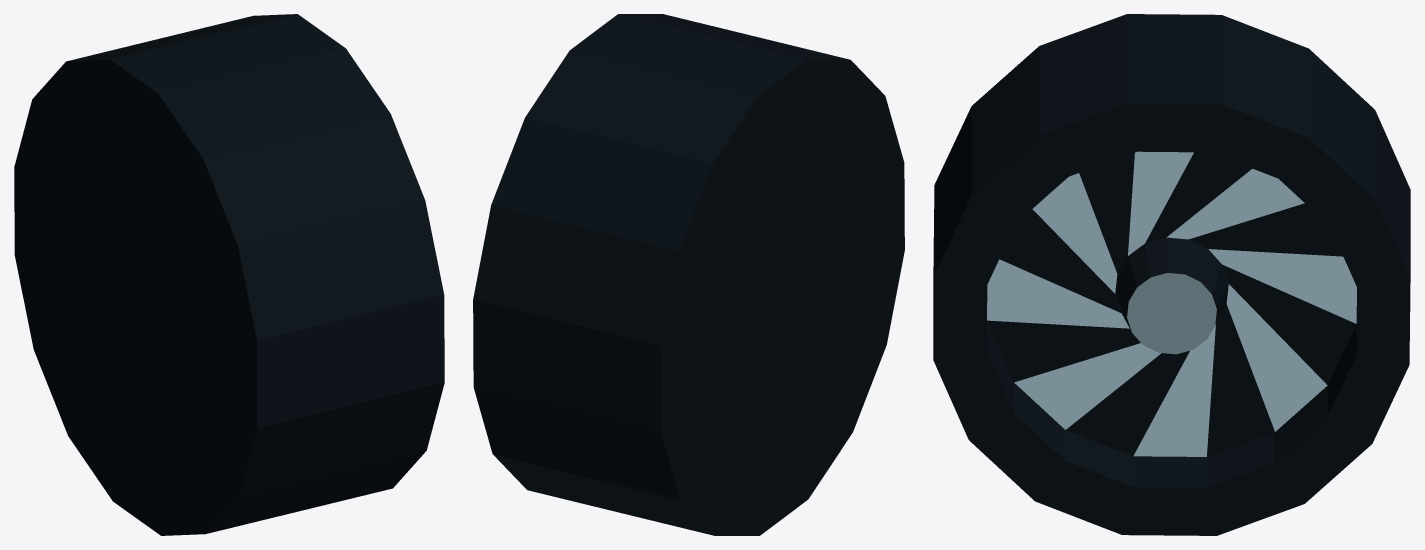
The model's file is FantaCar6600.export..WHEELblend.glb.
The picture shows the model from 3 angles, left to right: view 1: azimuth 30°, elevation 25°; view 2: azimuth 150°, elevation 25°; view 3: azimuth 270°, elevation 25°; orthographic projection. The views are drawn at different scales.
Parts seen in each view (by area): view 1: Car; view 2: Car; view 3: Car.
Part boxes in pixels (bbox=[...]): Car: bbox=[14, 14, 444, 535]; Car: bbox=[473, 14, 904, 535]; Car: bbox=[933, 14, 1410, 535].
Size of the model in its own units: 0.7081 by 1.59 by 1.59.
1 material, 1 textured.
